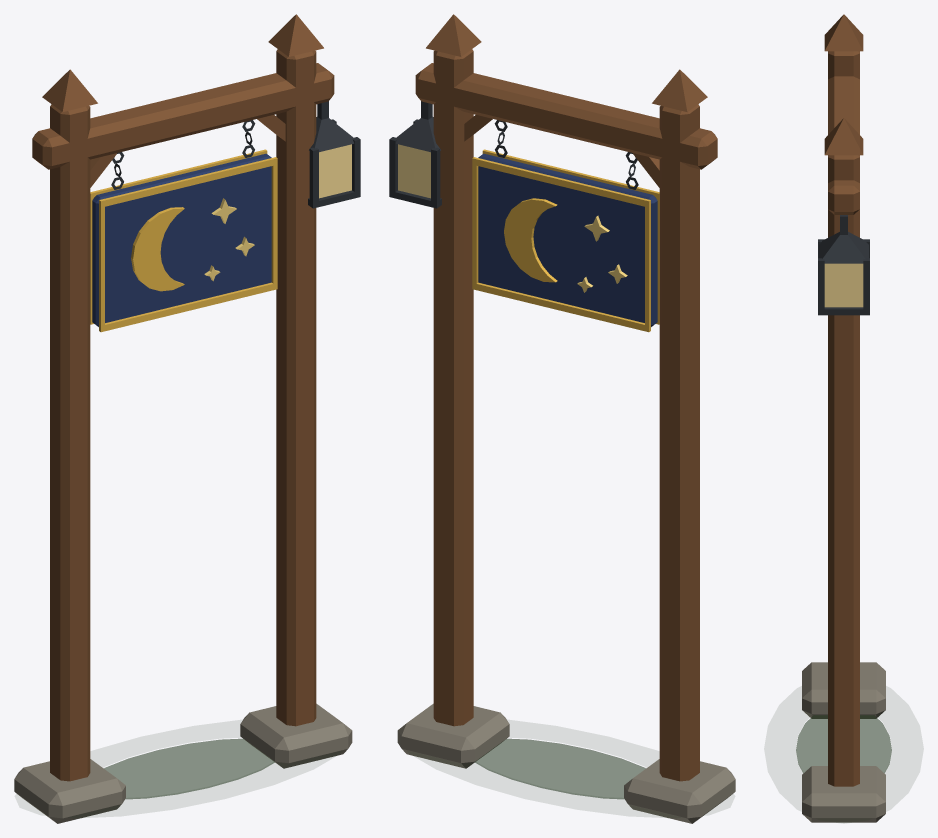
The model's file is inn_sign.glb.
The picture shows the model from 3 angles, left to right: view 1: azimuth 30°, elevation 25°; view 2: azimuth 150°, elevation 25°; view 3: azimuth 270°, elevation 25°; orthographic projection. The views are drawn at different scales.
Parts seen in each view (by area): view 1: inn_sign; view 2: inn_sign; view 3: inn_sign.
Part boxes in pixels (x1,y1,x2,y2): inn_sign: [14, 14, 360, 823]; inn_sign: [389, 14, 735, 823]; inn_sign: [796, 14, 891, 822].
Bounding box in the file's own units: 1.1 × 2.36 × 0.495.
